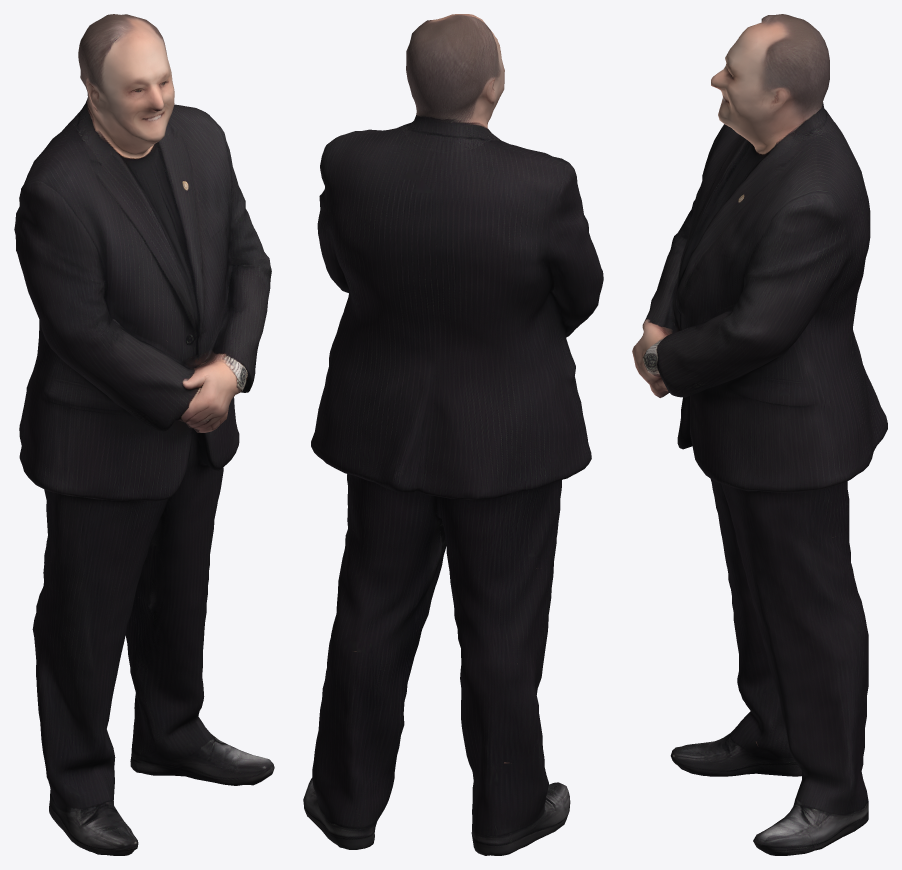
Rendered from Sheldon_person_texture.glb.
The picture shows the model from 3 angles, left to right: view 1: azimuth 30°, elevation 25°; view 2: azimuth 150°, elevation 25°; view 3: azimuth 270°, elevation 25°; orthographic projection. The views are drawn at different scales.
Parts seen in each view (by area): view 1: Mesh_0; view 2: Mesh_0; view 3: Mesh_0.
Part boxes in pixels (x1,y1,x2,y2): Mesh_0: (14,14,274,855); Mesh_0: (303,14,603,855); Mesh_0: (632,14,887,855).
Bounding box in the file's own units: 0.6325 × 1.89 × 0.5665.
1 material, 1 textured.
